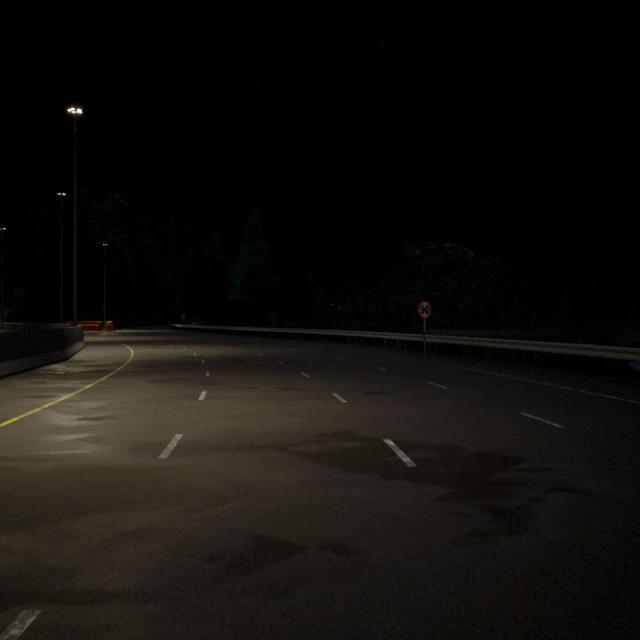Traffic_Signs: (418, 301, 431, 319), (182, 314, 185, 319)
